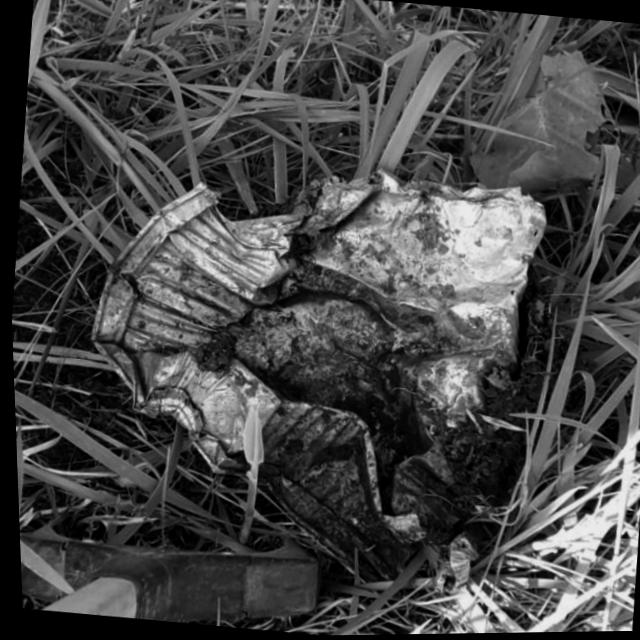Can-Metal: (55, 136, 560, 607)
